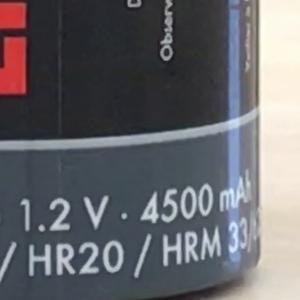HR20: (20, 231, 126, 285)
